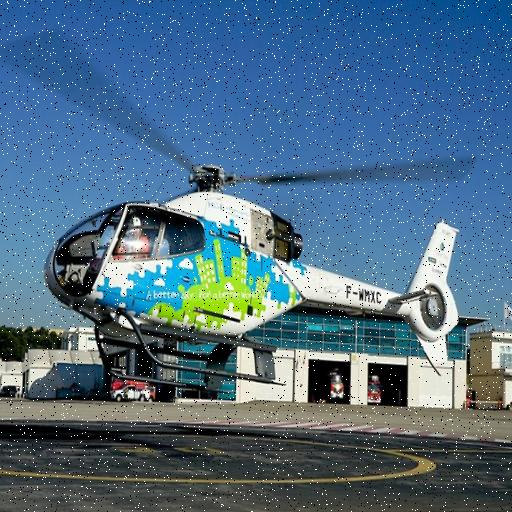helicopter: (1, 28, 488, 397)
